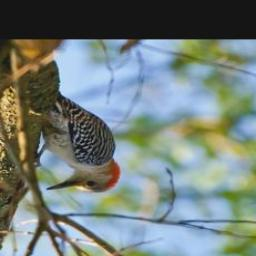Woodpecker: (23, 83, 141, 199)
